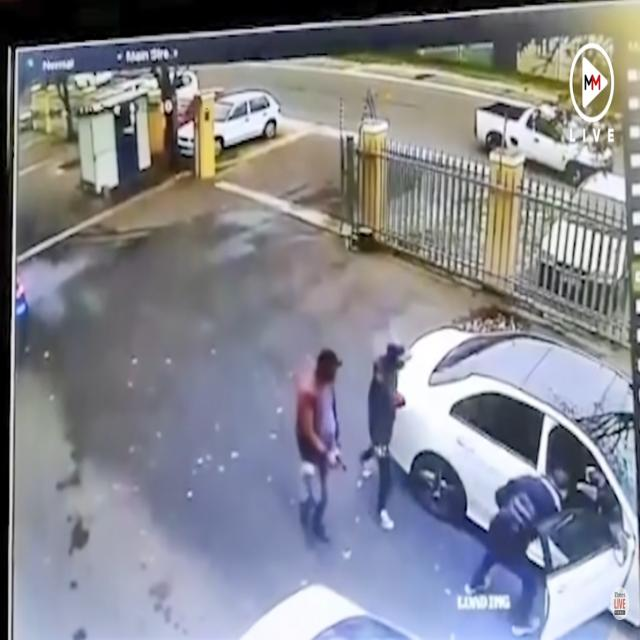FPistol: (333, 446, 346, 476)
